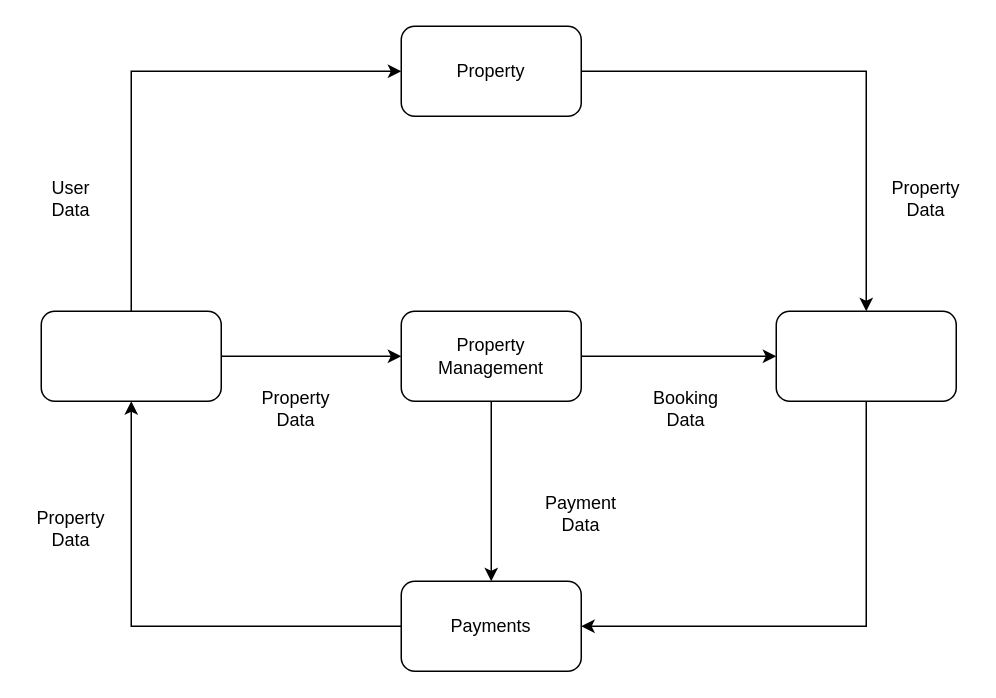
This 996x698 diagram has some shape labels left out. The centre of each missing label's shape, as x and y in pixels:
Bookings: [865,355]
User Mnagement: [130,355]
